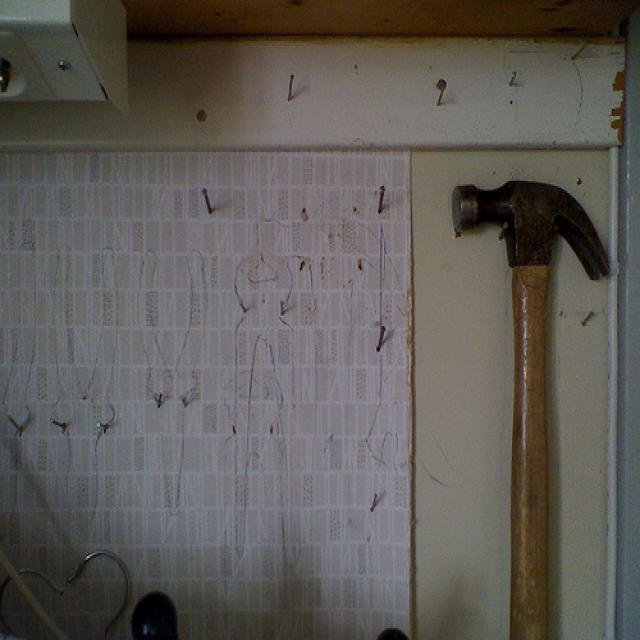hammer: (446, 147, 610, 640)
